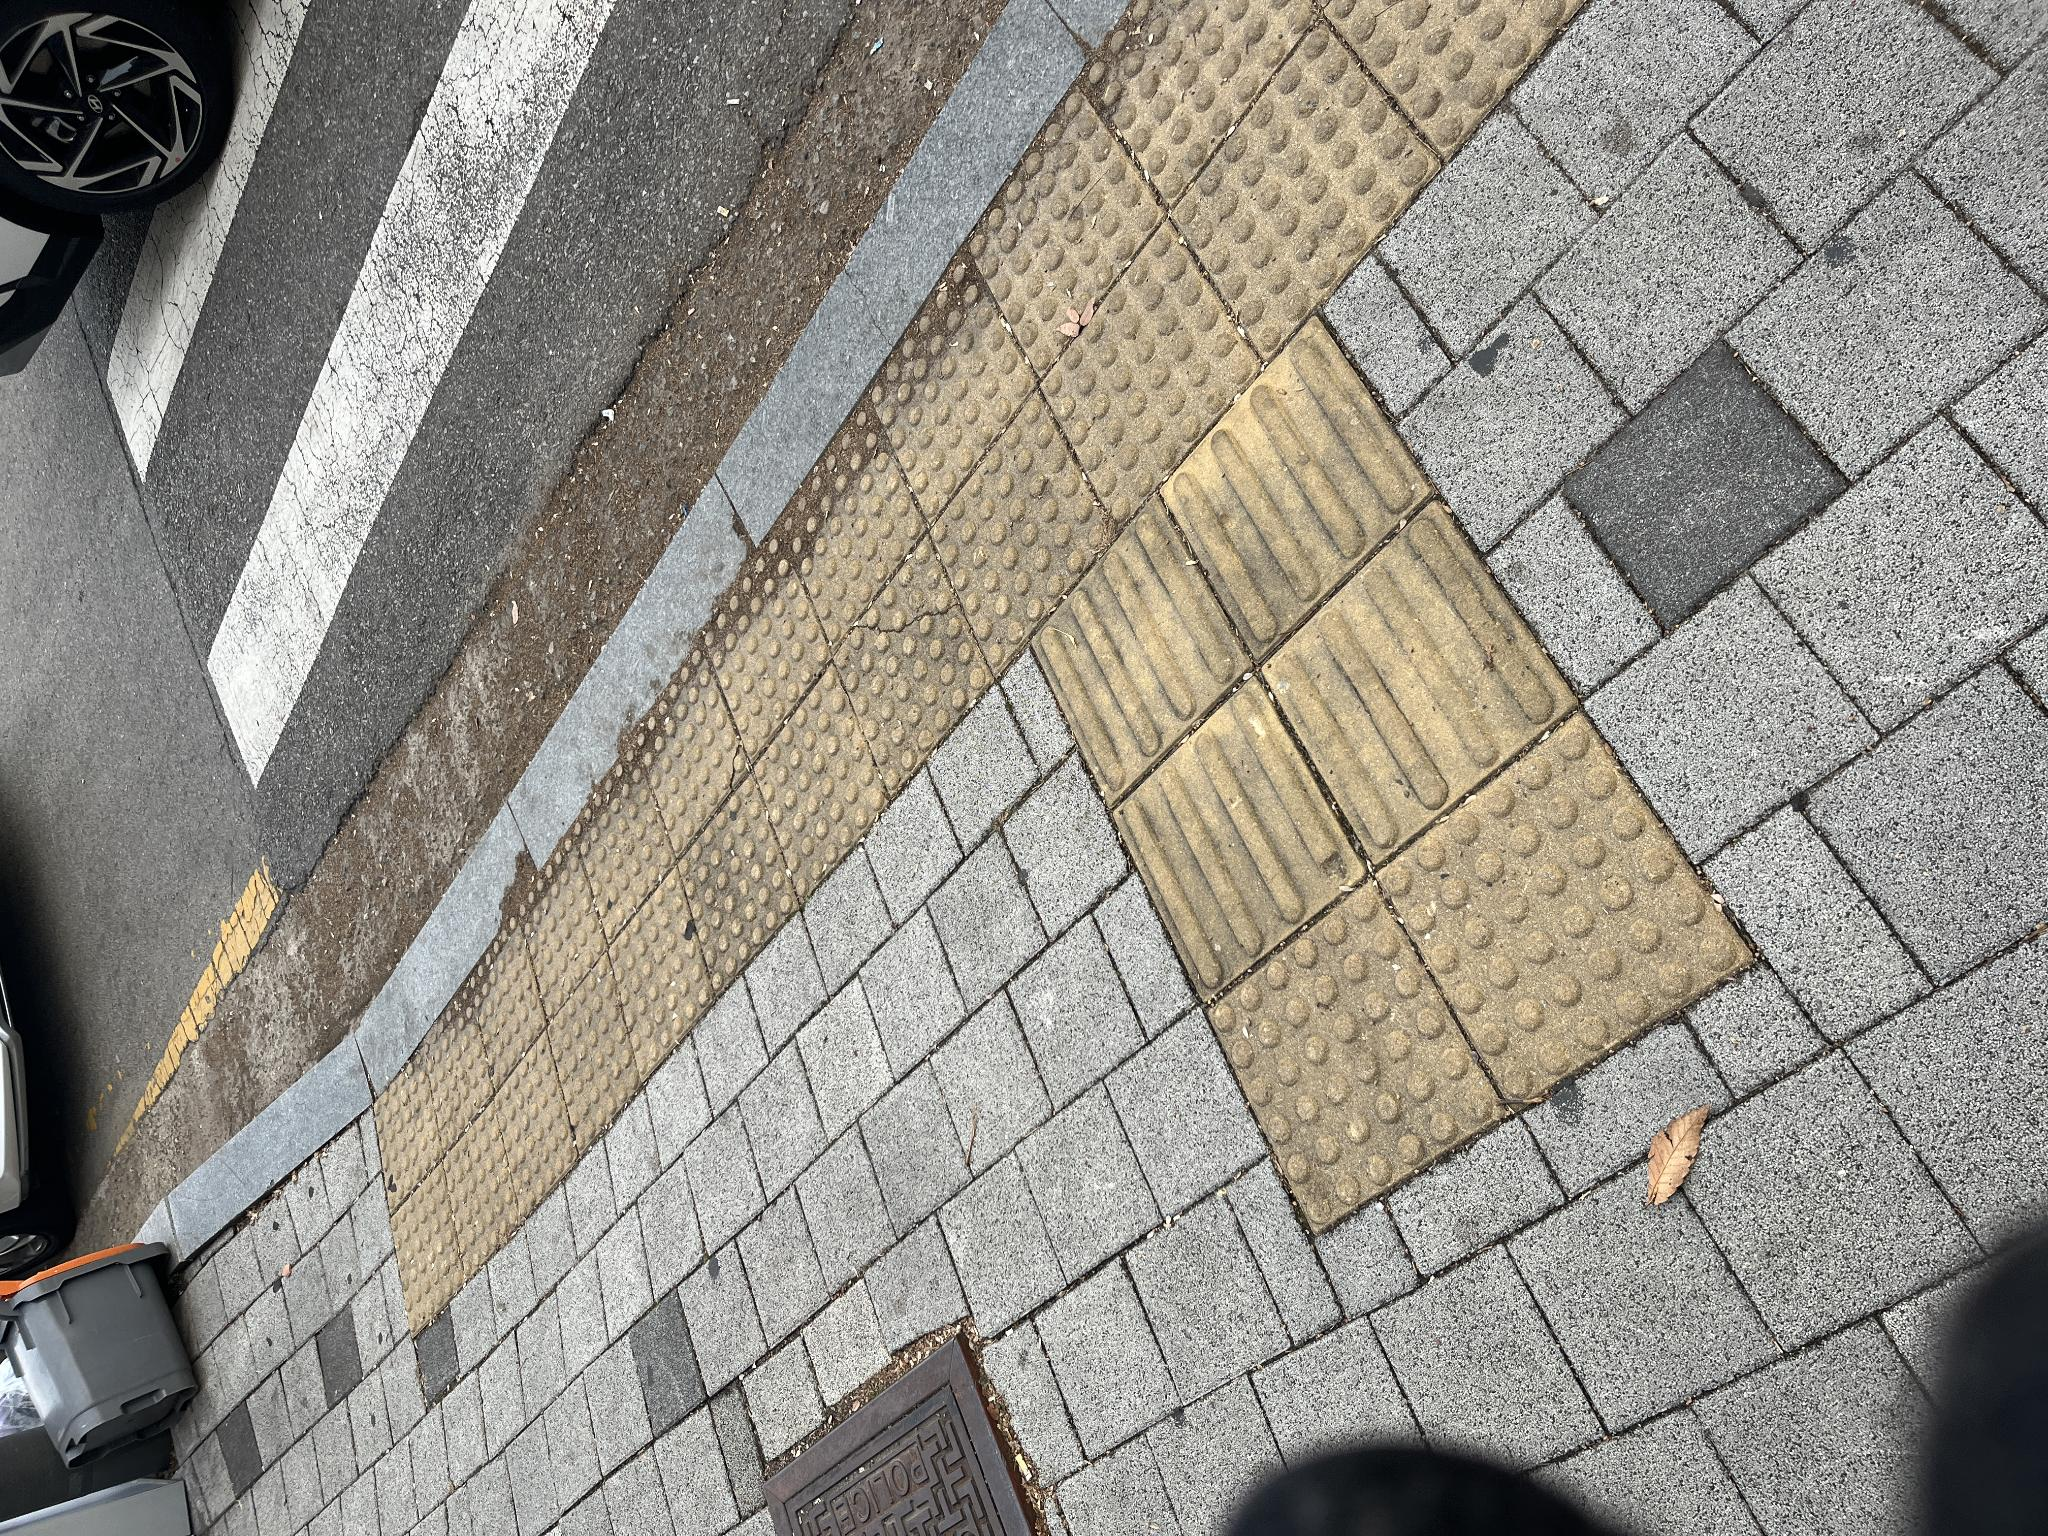Stop block broken: (742, 834, 1000, 989)
Stop block normal: (432, 1379, 787, 1536), (860, 933, 1143, 1117), (635, 753, 871, 887)
Straight block normal: (537, 1115, 860, 1365)
